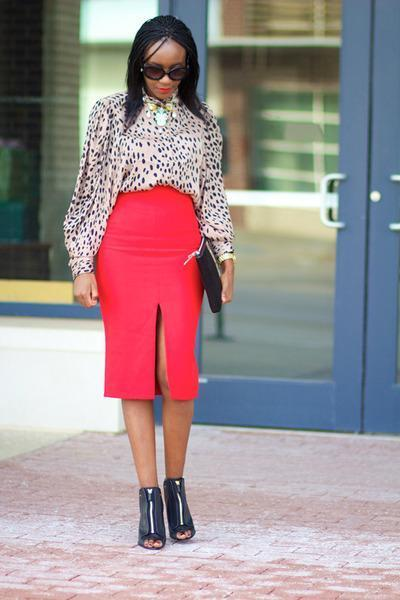bag: (196, 252, 221, 312)
pants: (94, 184, 202, 400)
shirt: (61, 86, 235, 271)
shoe: (138, 477, 195, 549)
